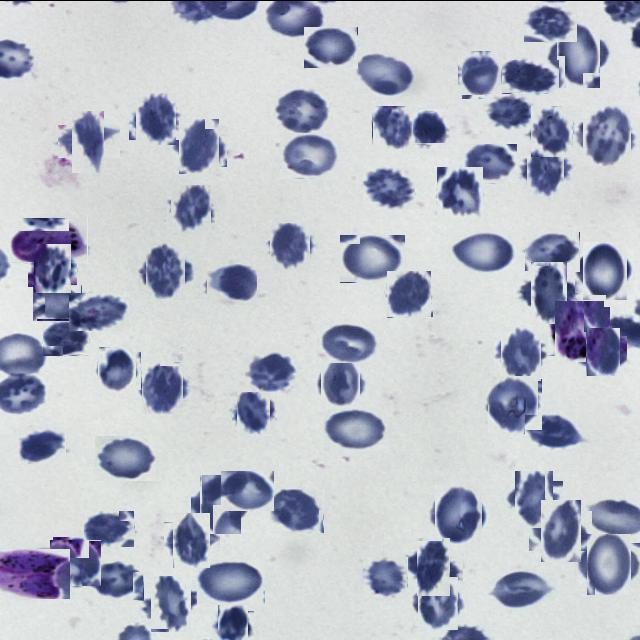difficult: (0, 548, 70, 598)
red blood cell: (340, 234, 406, 282), (197, 559, 266, 604), (551, 27, 606, 82), (432, 486, 486, 542), (486, 376, 540, 431), (579, 108, 634, 162), (353, 50, 415, 96), (451, 231, 518, 273), (582, 538, 636, 590), (280, 132, 341, 178), (324, 408, 389, 451), (95, 435, 156, 480), (578, 244, 630, 296), (534, 504, 586, 556), (275, 87, 332, 134), (317, 322, 378, 363), (196, 478, 246, 528), (434, 168, 484, 218), (524, 267, 573, 317), (146, 577, 195, 627), (492, 569, 553, 608), (270, 488, 324, 532), (51, 538, 100, 586), (363, 166, 416, 210), (142, 246, 190, 294), (510, 475, 558, 523), (522, 145, 570, 193), (528, 107, 576, 155), (64, 116, 112, 164), (69, 292, 129, 330), (304, 26, 358, 68), (176, 122, 223, 170), (497, 329, 545, 376), (415, 579, 462, 626), (525, 231, 580, 271), (89, 560, 144, 600), (140, 364, 187, 410), (168, 516, 214, 563), (464, 143, 518, 183), (525, 414, 583, 451), (207, 263, 258, 305), (221, 470, 274, 510), (317, 360, 363, 406), (386, 271, 432, 317), (132, 96, 178, 142), (411, 542, 457, 588), (246, 350, 296, 391), (524, 3, 577, 41), (460, 51, 504, 96), (502, 59, 560, 93), (485, 92, 534, 132), (268, 224, 312, 268), (168, 187, 213, 230), (363, 556, 408, 598), (84, 510, 135, 547), (95, 348, 138, 391), (30, 246, 74, 288), (18, 426, 66, 464), (33, 284, 82, 321), (582, 330, 624, 372), (372, 106, 414, 148), (43, 320, 90, 356), (235, 394, 272, 432), (412, 110, 448, 146), (216, 608, 251, 640)
schizont: (552, 302, 606, 358)
trophozoite: (9, 217, 88, 262)
